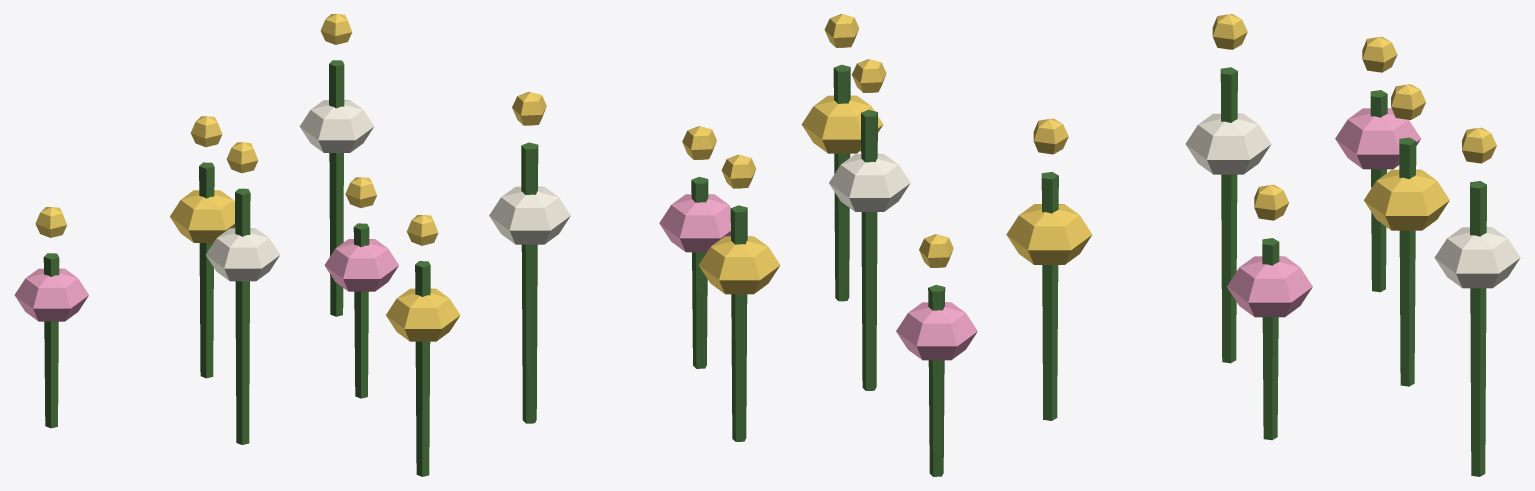
File: flower_patch.glb
The picture shows the model from 3 angles, left to right: view 1: azimuth 30°, elevation 25°; view 2: azimuth 150°, elevation 25°; view 3: azimuth 270°, elevation 25°; orthographic projection. The views are drawn at different scales.
Visible parts, largest first — view 1: Stem2, Head2, Head1, Head3, Head0, Head5, Stem5, Head4, Stem1, Stem4, Stem0, Stem3 (+6 smaller); view 2: Stem5, Stem2, Head3, Head4, Head5, Head2, Head0, Stem4, Head1, Stem1, Stem3, Stem0 (+6 smaller); view 3: Stem5, Head0, Head5, Head4, Head2, Head1, Stem2, Head3, Stem4, Stem1, Stem0, Stem3 (+6 smaller).
Boxes of the visible parts, x1=… form: Stem2: x1=235, y1=188, x2=250, y2=444; Head2: x1=206, y1=228, x2=280, y2=281; Head1: x1=386, y1=288, x2=460, y2=341; Head3: x1=14, y1=268, x2=88, y2=321; Head0: x1=324, y1=239, x2=398, y2=291; Head5: x1=299, y1=100, x2=374, y2=152; Stem5: x1=329, y1=60, x2=344, y2=316; Head4: x1=170, y1=190, x2=235, y2=242; Stem1: x1=415, y1=261, x2=430, y2=476; Stem4: x1=199, y1=162, x2=214, y2=378; Stem0: x1=353, y1=223, x2=369, y2=398; Stem3: x1=43, y1=253, x2=59, y2=428; Stem5: x1=521, y1=142, x2=538, y2=423; Stem2: x1=861, y1=110, x2=877, y2=390; Head3: x1=896, y1=302, x2=977, y2=360; Head4: x1=698, y1=236, x2=780, y2=294; Head5: x1=489, y1=186, x2=570, y2=244; Head2: x1=829, y1=154, x2=910, y2=211; Head0: x1=659, y1=194, x2=730, y2=252; Stem4: x1=730, y1=205, x2=747, y2=441; Head1: x1=801, y1=95, x2=883, y2=153; Stem1: x1=833, y1=64, x2=850, y2=301; Stem3: x1=928, y1=285, x2=945, y2=476; Stem0: x1=691, y1=176, x2=708, y2=368; Stem5: x1=1470, y1=181, x2=1486, y2=476; Head0: x1=1227, y1=256, x2=1312, y2=317; Head5: x1=1434, y1=227, x2=1520, y2=288; Head4: x1=1364, y1=169, x2=1449, y2=230; Head2: x1=1185, y1=113, x2=1271, y2=174; Head1: x1=1006, y1=204, x2=1092, y2=264; Stem2: x1=1220, y1=67, x2=1237, y2=363; Head3: x1=1335, y1=108, x2=1420, y2=169; Stem4: x1=1399, y1=137, x2=1416, y2=386; Stem1: x1=1041, y1=172, x2=1058, y2=420; Stem0: x1=1262, y1=238, x2=1279, y2=440; Stem3: x1=1370, y1=90, x2=1387, y2=292.
Bounding box in the file's own units: 1.19 × 0.885 × 1.19.
